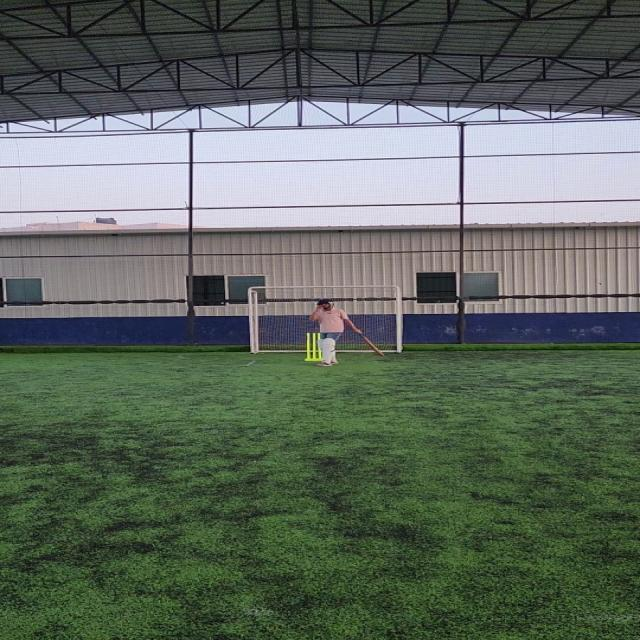stump: (304, 332, 322, 361)
